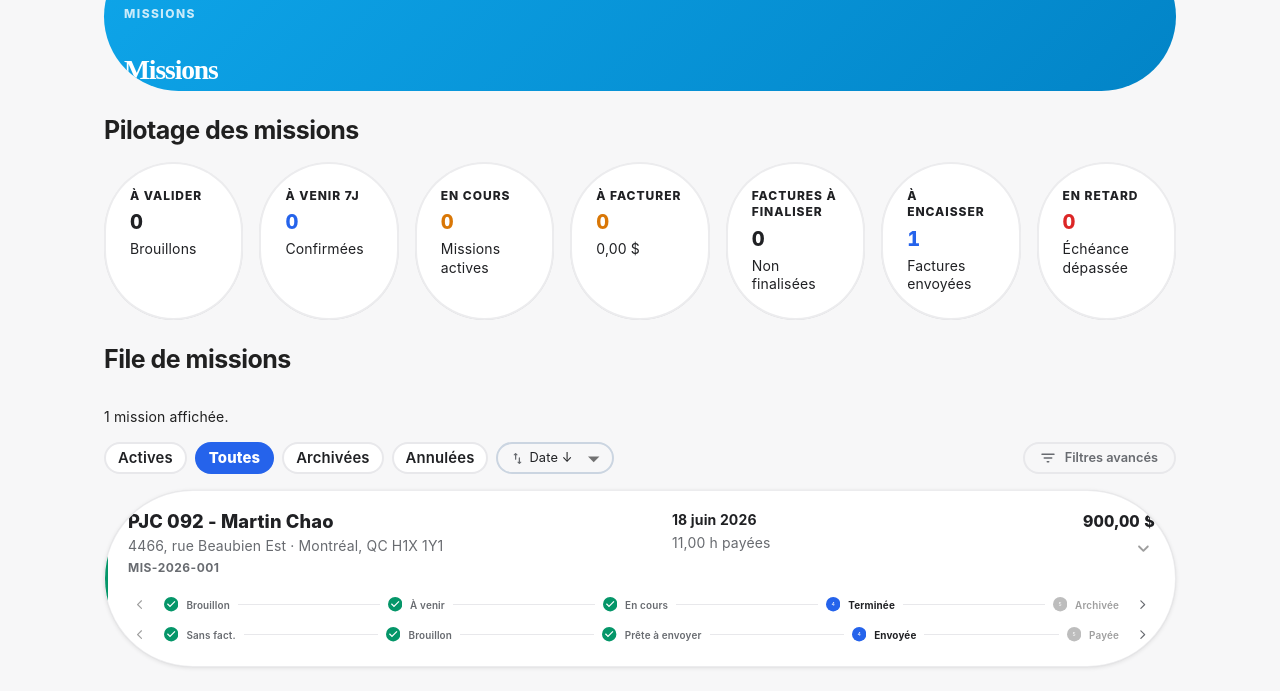
Test: MissionsPage — À faire maintenant CTA ladder › shows delete payment confirmation dialog
The width and height of the screenshot is (1280, 691).
(page scrolled)
Click the button "MIS-2026-001". click: (640, 579)
box: [105,491,1175,666]
(page scrolled)
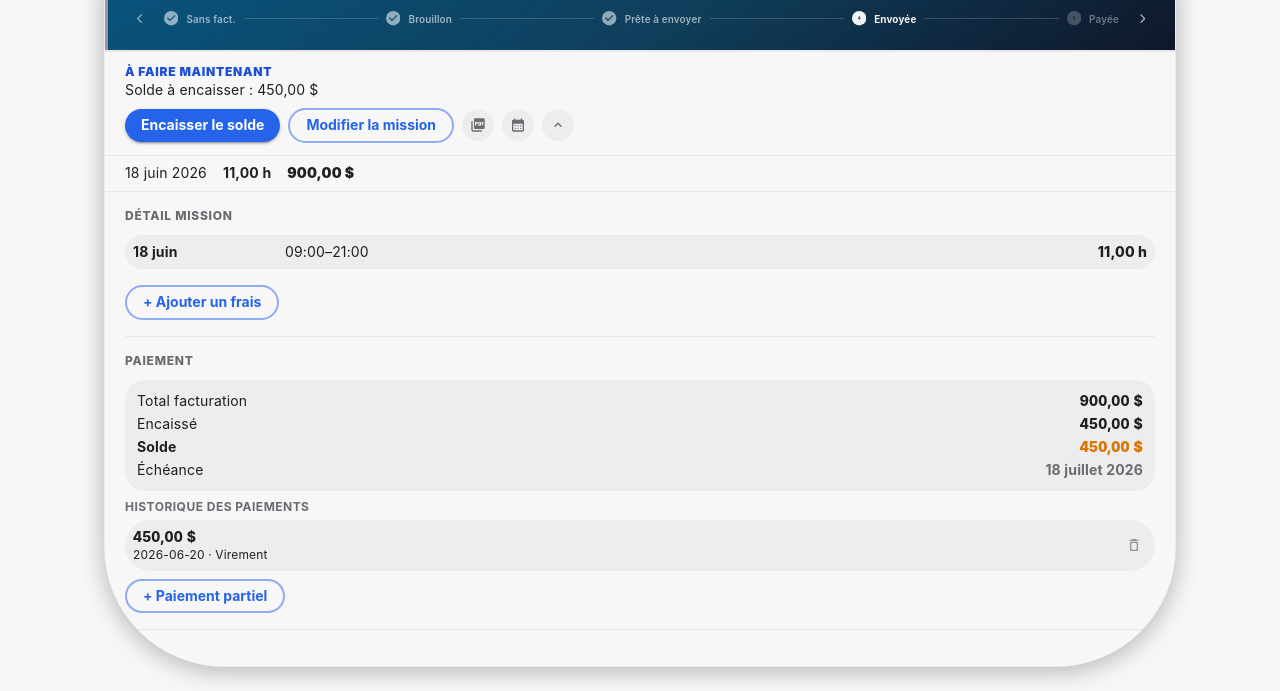
Click the button named "Supprimer le paiement". click: (1134, 545)
box: [1121,532,1147,558]
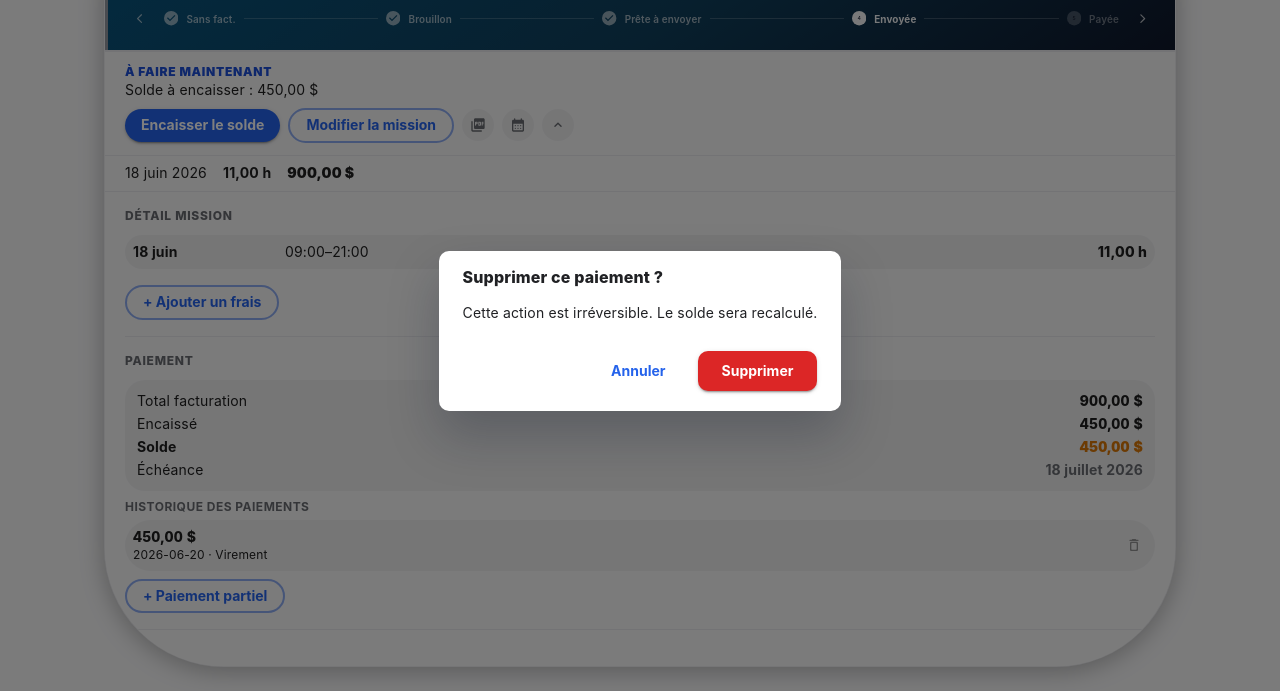
expect the heading "Supprimer ce paiement ?" is shown: met, box [462,267,663,287]
expect the button "Supprimer" is shown: met, box [698,351,817,391]
